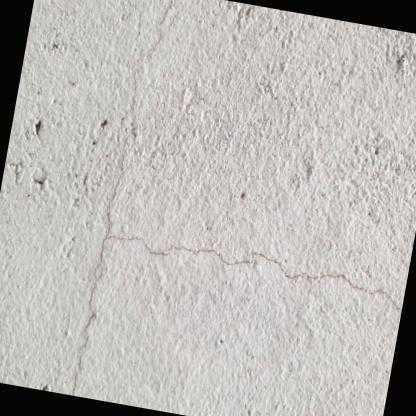crack: (71, 0, 397, 396)
